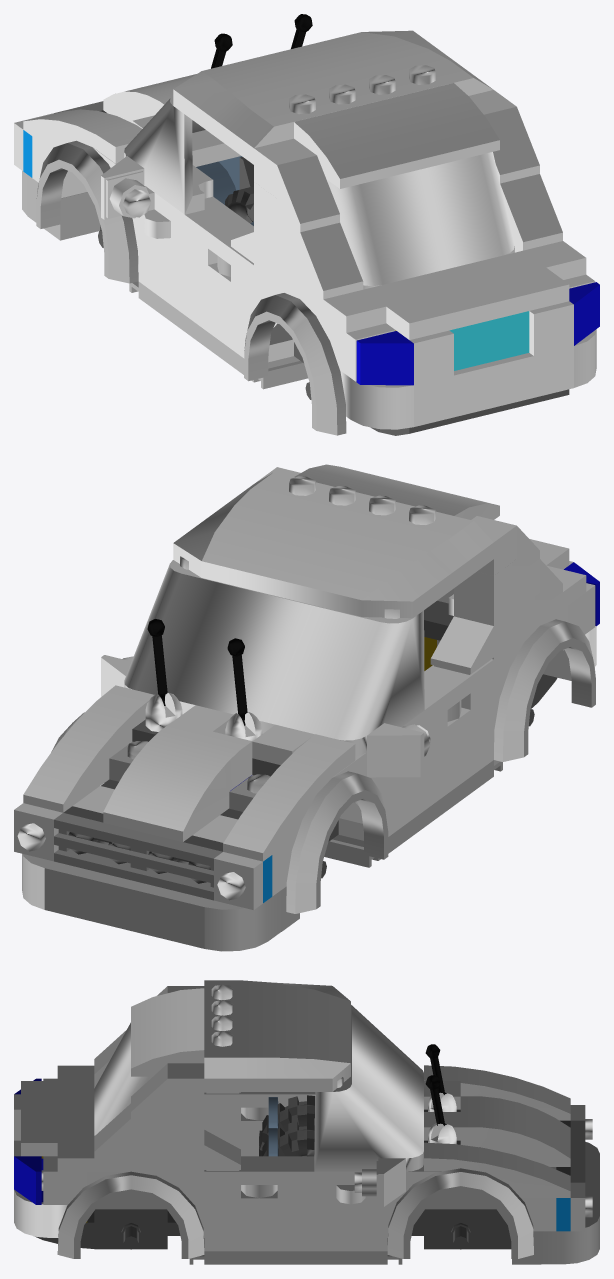
The model's file is GENERICCAR.glb.
3 views of the same model, one above another, from view 1: azimuth 30°, elevation 25°; view 2: azimuth 150°, elevation 25°; view 3: azimuth 270°, elevation 25° (orthographic). The views are drawn at different scales.
Visible parts, largest first — view 1: GENERICCAR; view 2: GENERICCAR; view 3: GENERICCAR.
Part boxes in pixels (left/top/right/bottom): GENERICCAR: left=14, top=14, right=599, bottom=435; GENERICCAR: left=14, top=464, right=599, bottom=951; GENERICCAR: left=14, top=980, right=599, bottom=1264.
Size of the model in its own units: 0.6401 by 0.4961 by 1.28.
